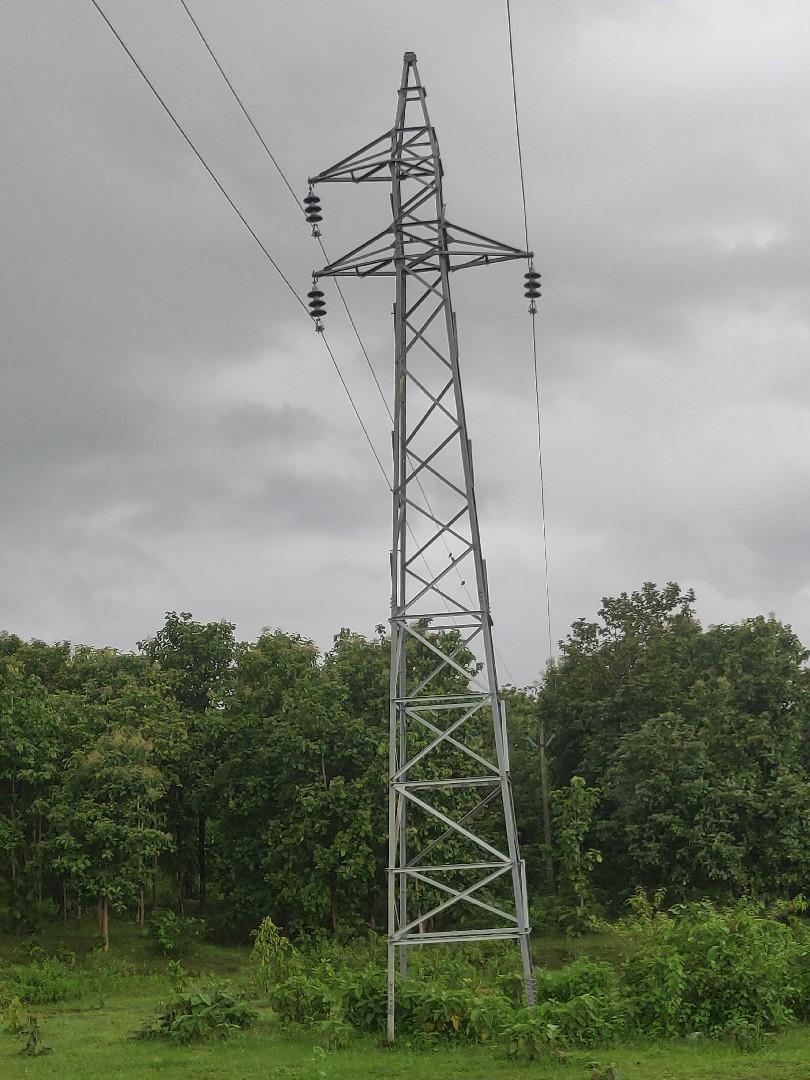GSM Antenna: (301, 46, 545, 1005)
